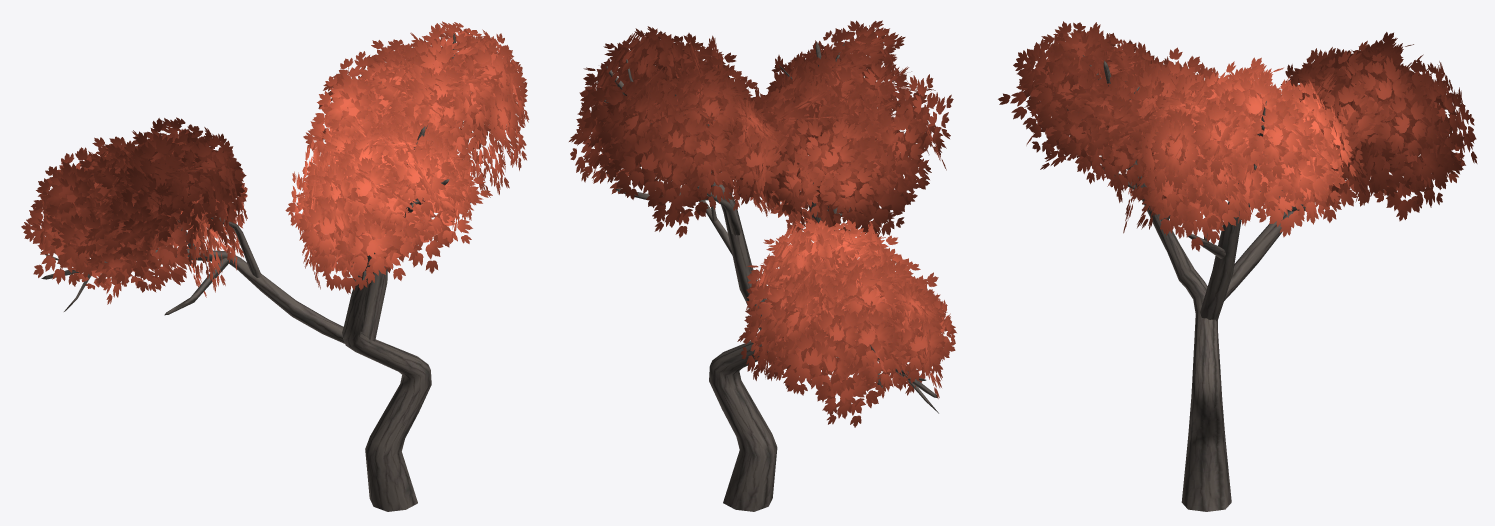
Rendered from maple_2.glb.
3 renders of one model, left to right at view 1: azimuth 30°, elevation 25°; view 2: azimuth 150°, elevation 25°; view 3: azimuth 270°, elevation 25°, orthographic. The views are drawn at different scales.
Parts seen in each view (by area): view 1: MapleTree_2; view 2: MapleTree_2; view 3: MapleTree_2.
Boxes of the visible parts, x1,y1,x2,y2 form: MapleTree_2: (21, 21, 529, 511); MapleTree_2: (569, 20, 956, 511); MapleTree_2: (998, 21, 1477, 511).
Size of the model in its own units: 6.7 by 6.71 by 6.24.
Materials: 2 (2 with a texture image).
